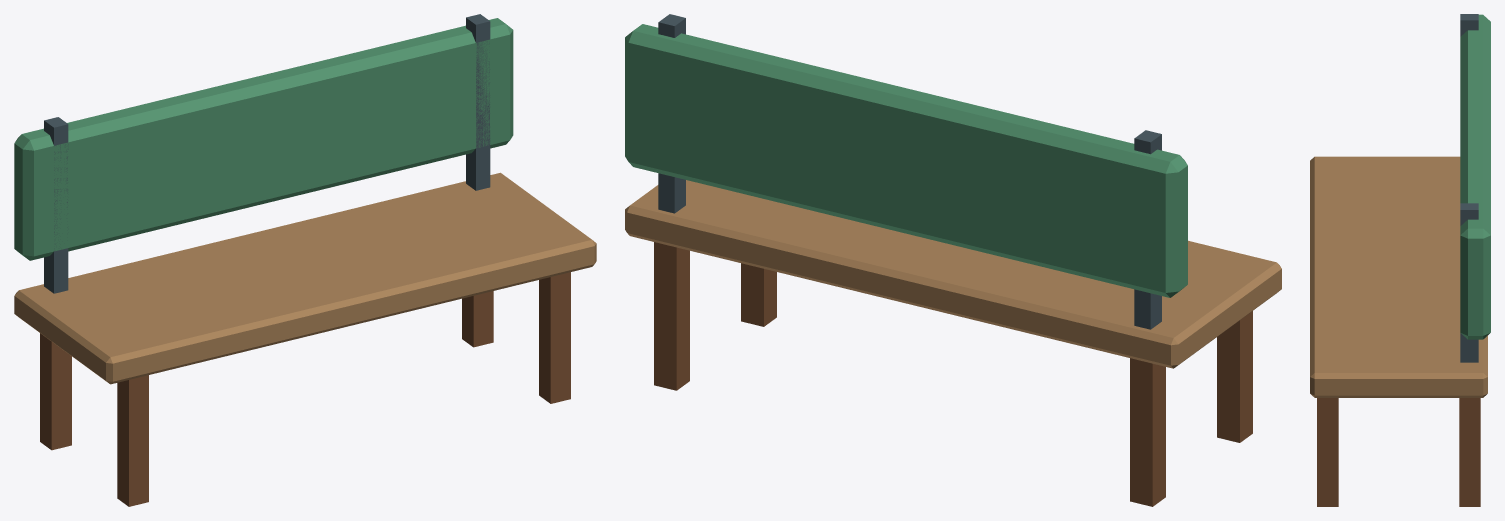
Rendered from picnic_bench.glb.
3 views of the same model, side by side, from view 1: azimuth 30°, elevation 25°; view 2: azimuth 150°, elevation 25°; view 3: azimuth 270°, elevation 25° (orthographic). The views are drawn at different scales.
Visible parts, largest first — view 1: picnic_bench; view 2: picnic_bench; view 3: picnic_bench.
Part boxes in pixels (bbox=[...]): picnic_bench: bbox=[14, 14, 596, 506]; picnic_bench: bbox=[625, 14, 1281, 506]; picnic_bench: bbox=[1310, 14, 1490, 506].
Size of the model in its own units: 1.7 by 1.06 by 0.59.
